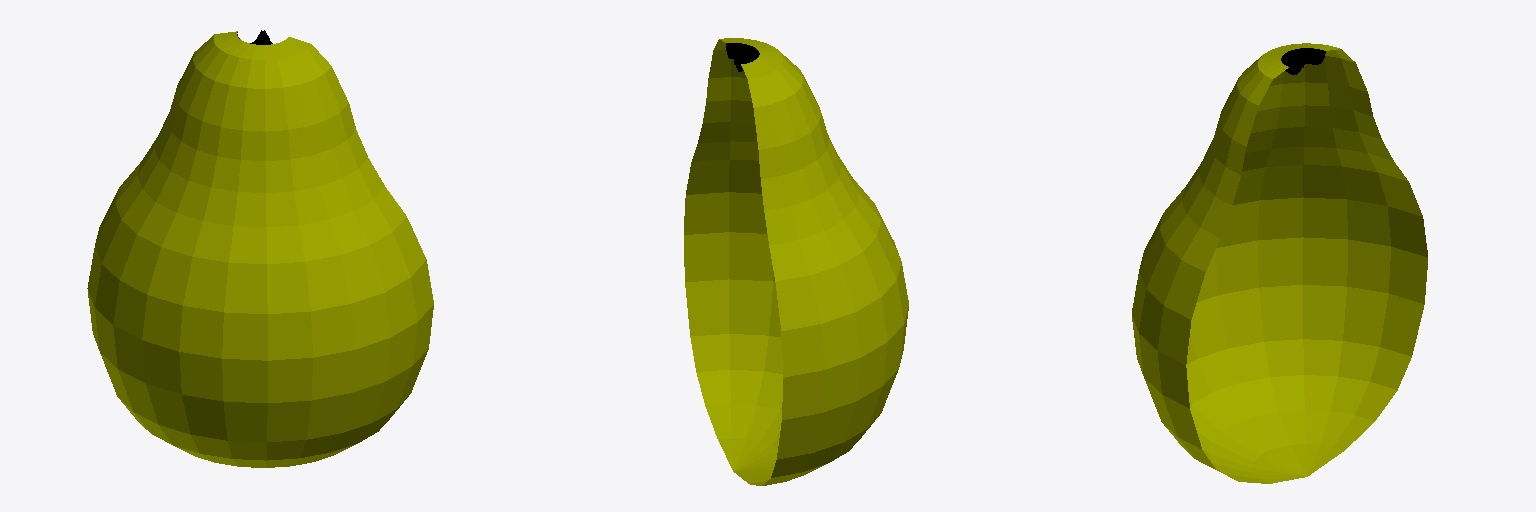
Rendered from pera_ladob.obj.
3 renders of one model, left to right at view 1: azimuth 30°, elevation 25°; view 2: azimuth 150°, elevation 25°; view 3: azimuth 270°, elevation 25°, orthographic.
Parts seen in each view (by area): view 1: Mesh1 Group1 Model; view 2: Mesh1 Group1 Model; view 3: Mesh1 Group1 Model.
Part boxes in pixels (bbox=[...]): Mesh1 Group1 Model: bbox=[87, 30, 433, 467]; Mesh1 Group1 Model: bbox=[684, 38, 908, 485]; Mesh1 Group1 Model: bbox=[1132, 43, 1427, 483].
Bounding box in the file's own units: 0.1176 × 0.1804 × 0.1151.